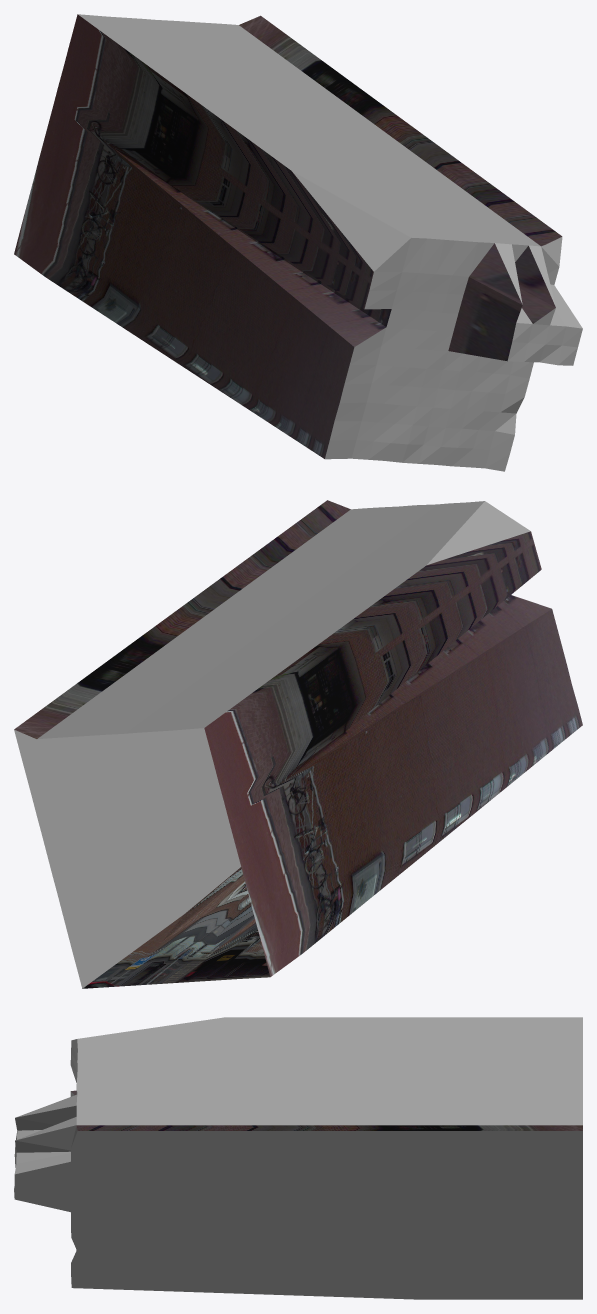
3 renders of one model, top to bottom at view 1: azimuth 30°, elevation 25°; view 2: azimuth 150°, elevation 25°; view 3: azimuth 270°, elevation 25°, orthographic. The views are drawn at different scales.
Visible parts, largest first — view 1: pand; view 2: pand; view 3: pand.
Part boxes in pixels (<box>): pand: <box>14,14,582,471</box>; pand: <box>14,500,582,988</box>; pand: <box>14,1017,582,1299</box>.
Bounding box in the file's own units: 14.16 × 15.34 × 33.78.
Materials: 3 (2 with a texture image).
